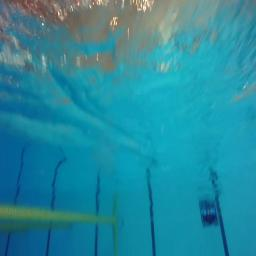front: (200, 206, 219, 227)
